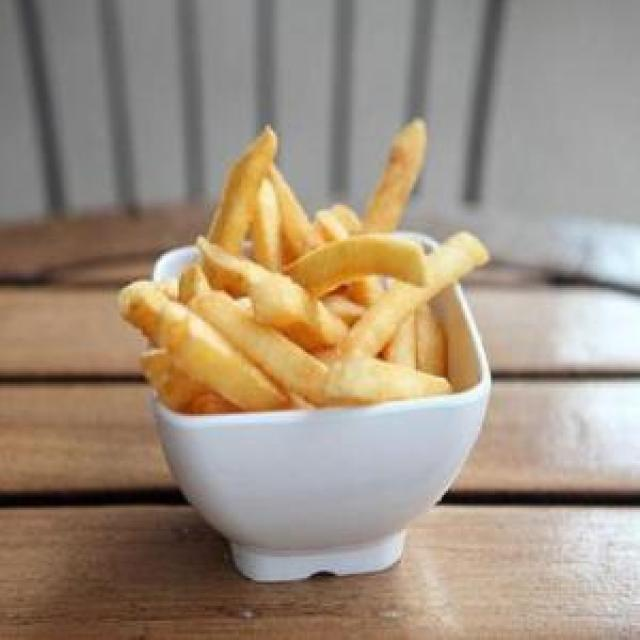French Fries: (112, 115, 496, 425)
